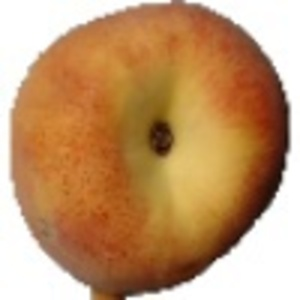pêssego: (6, 1, 292, 300)
